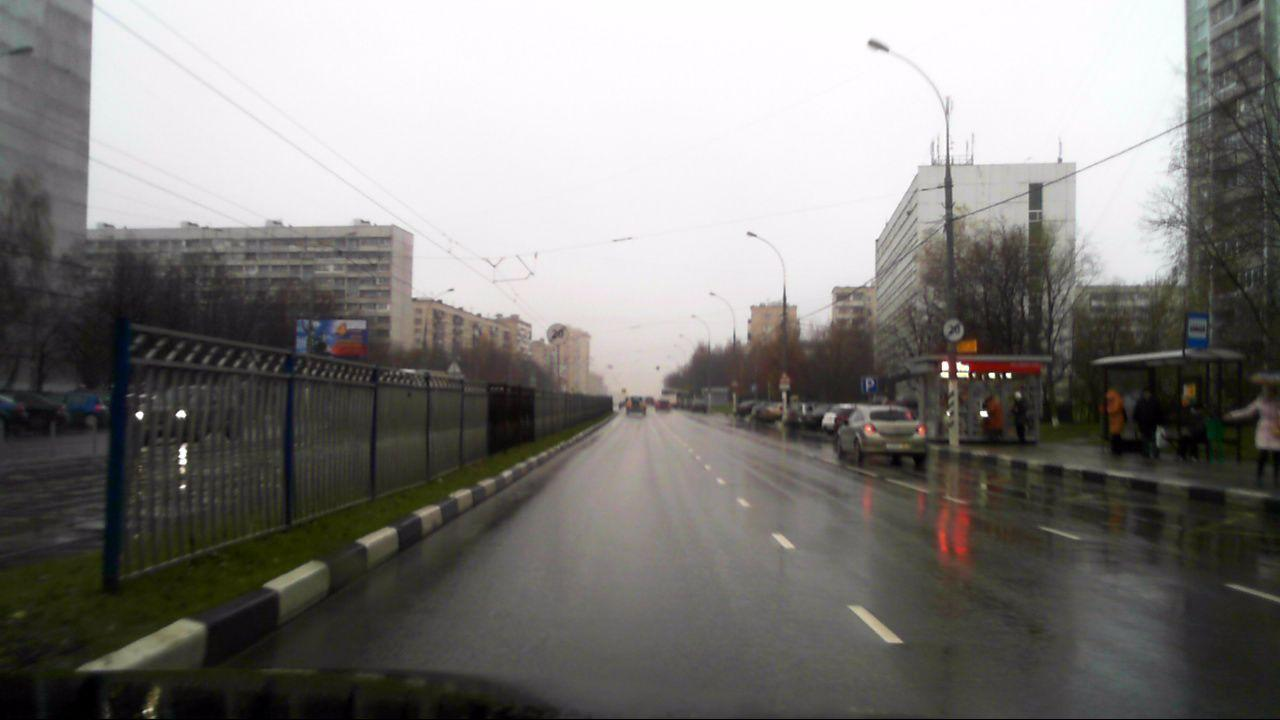1_23: (780, 373, 791, 384)
3_25: (546, 322, 568, 345), (943, 318, 964, 341)
5_16: (1187, 312, 1210, 346)
6_4: (861, 375, 881, 392)
8_2_1: (779, 384, 791, 390)
